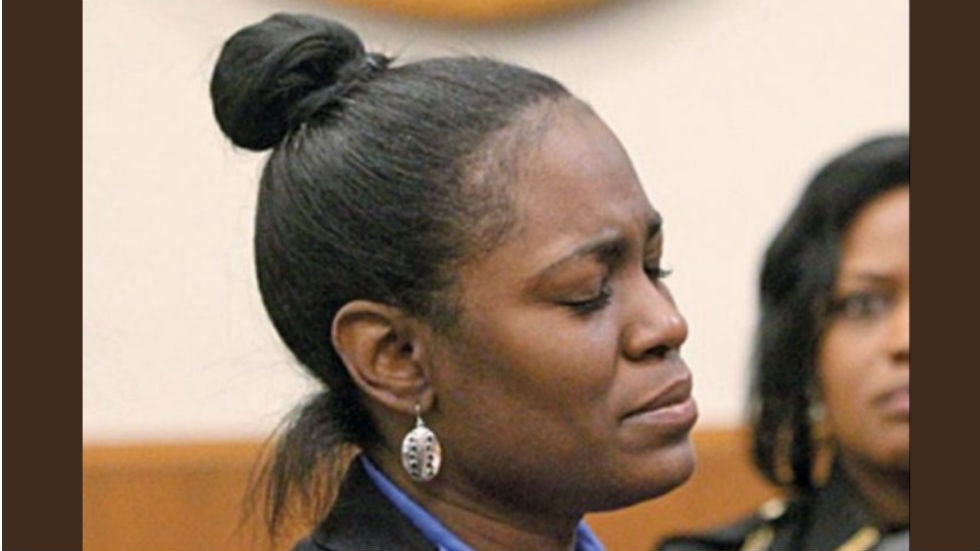bare: (458, 314, 697, 498), (819, 330, 908, 464)
